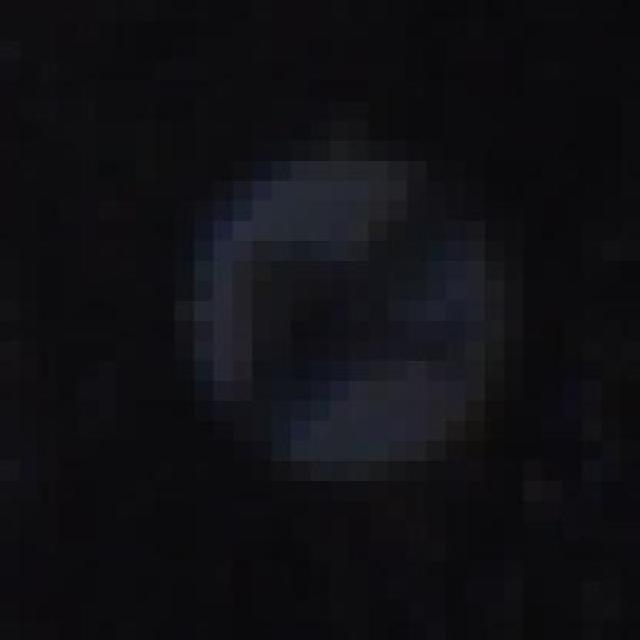Overtaking by trucks is prohibited: (135, 100, 563, 540)
